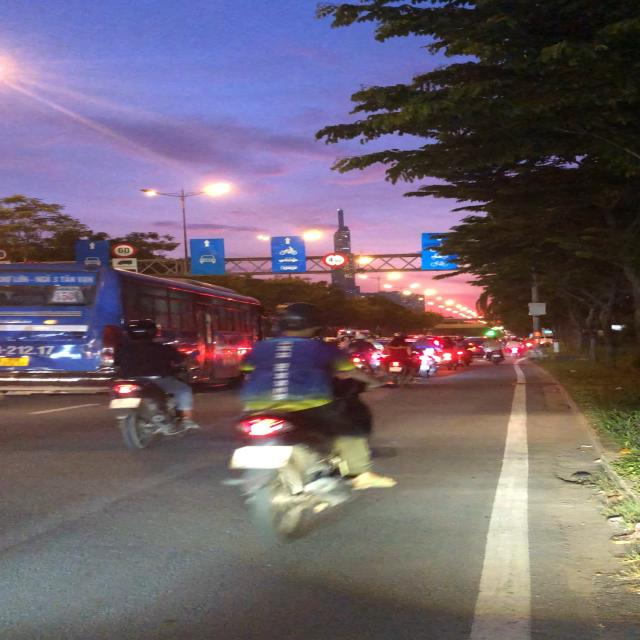Bien bao han che chieu cao: (318, 252, 350, 266)
Bien bao toc do toi da cho phep: (108, 243, 142, 258)
